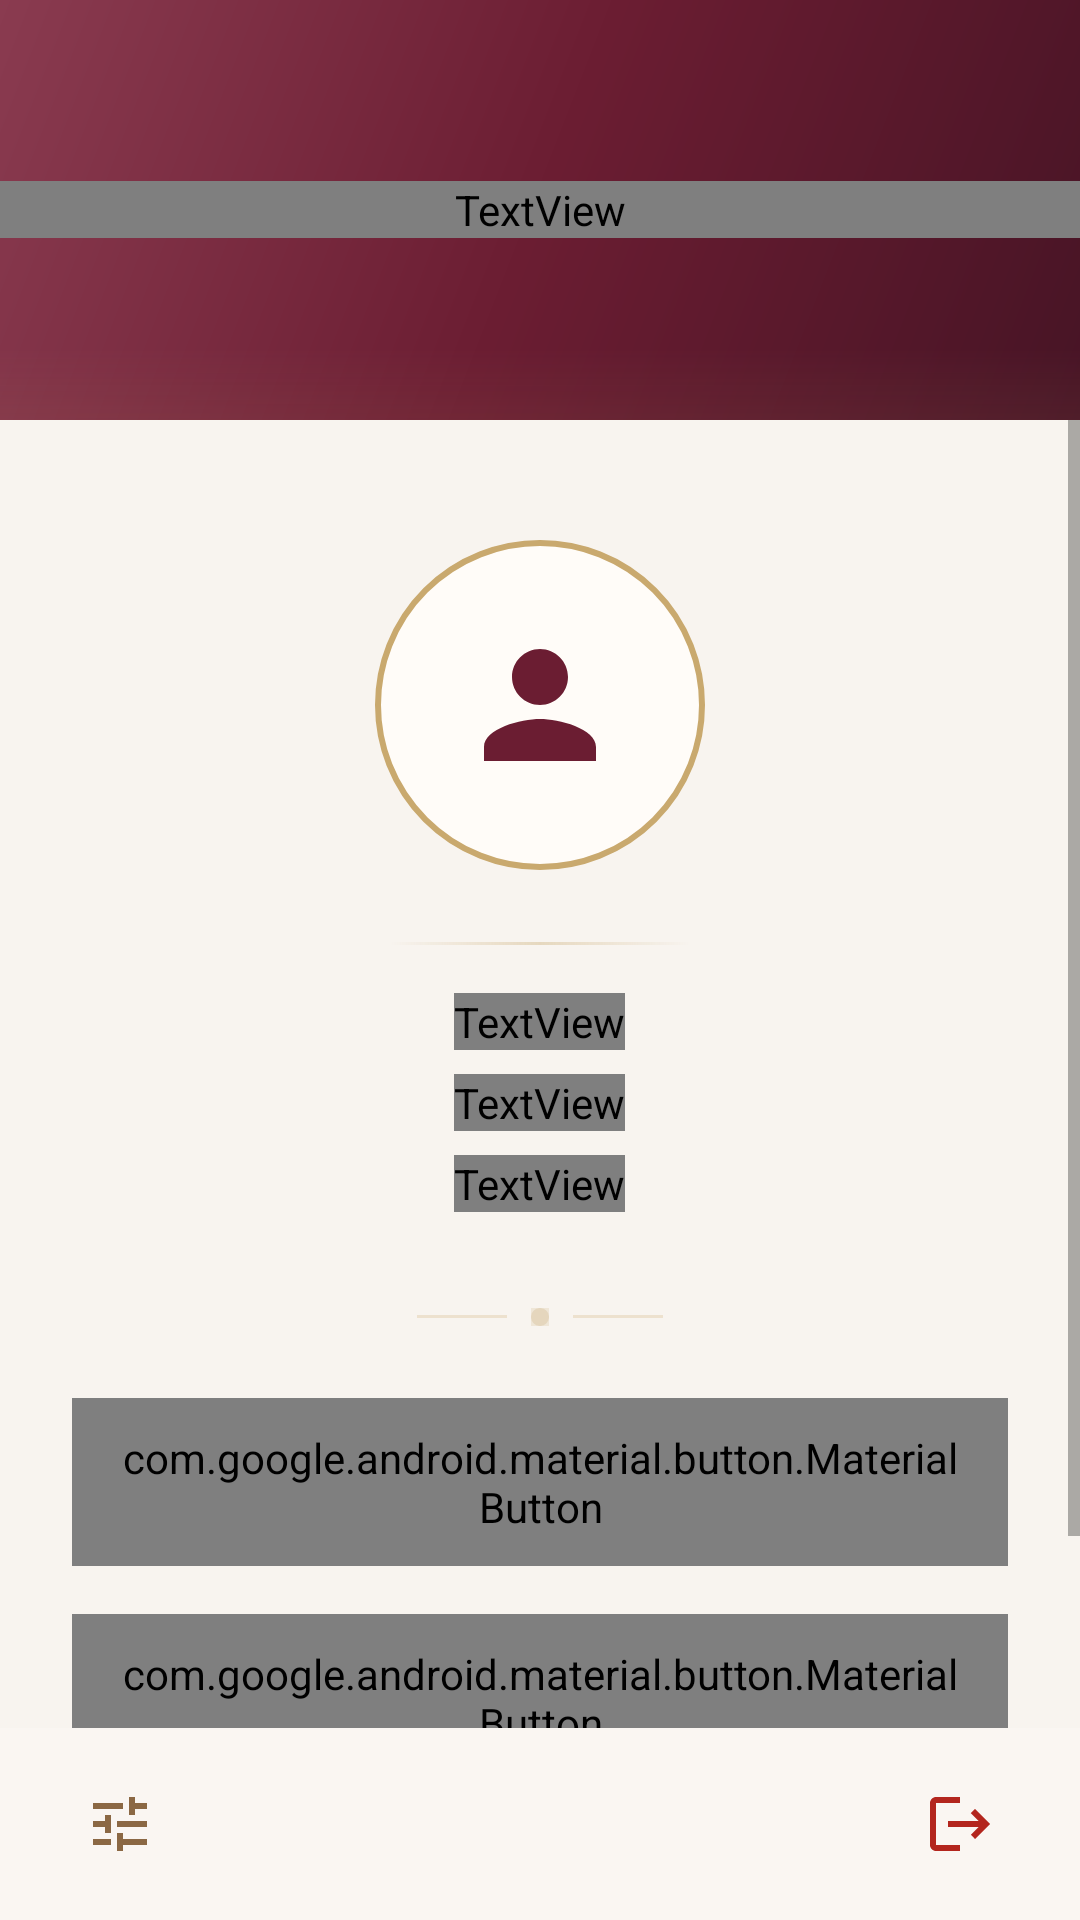

Point at icon controls on the screen. Image size 1080×1920, points as (x=x, y=y).
Paramètres: (x=120, y=1824)
person: (x=540, y=705)
